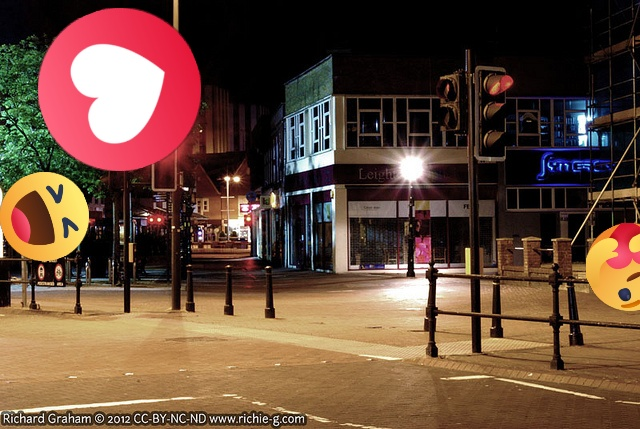care: (586, 223, 640, 311)
haha: (0, 172, 89, 261)
love: (38, 8, 201, 171)
